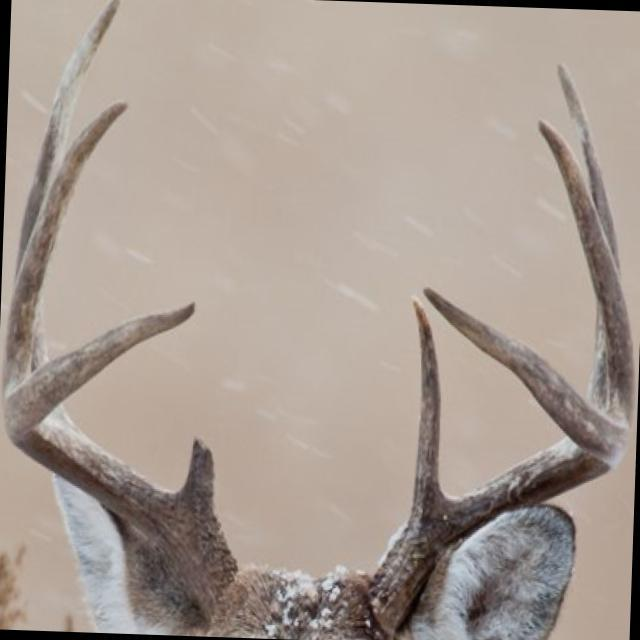L-F: (357, 283, 631, 638)
L-G1: (408, 292, 446, 507)
L-G3: (535, 119, 635, 427)
R-F: (2, 300, 238, 624)
R-G1: (179, 435, 216, 513)
R-G3: (1, 101, 128, 403)
